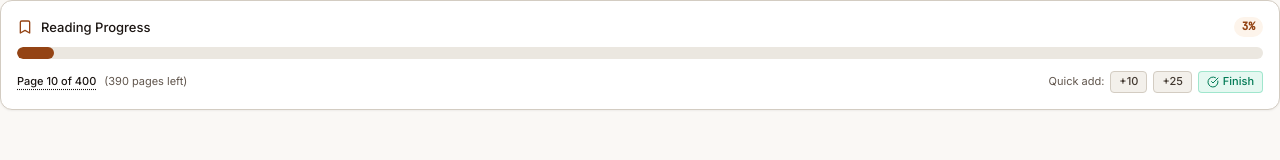
Test: ReadingProgressBar › adds pages quickly and shows the updated percentage
This screenshot has width=1280, height=160.
Click the button "+25": (1173,82) [1153,71,1192,93]
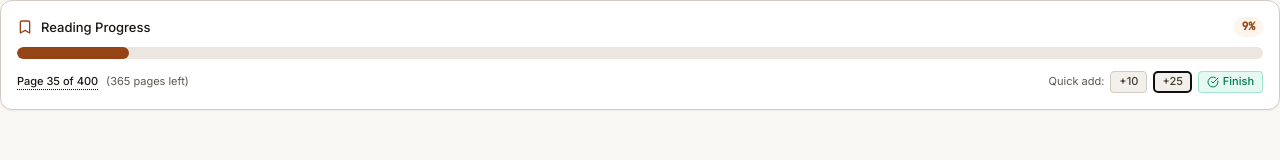
Result: the button "Page 35 of 400" is shown at [17,74,98,90]
